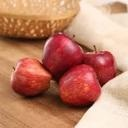apple: (9, 57, 52, 98)
